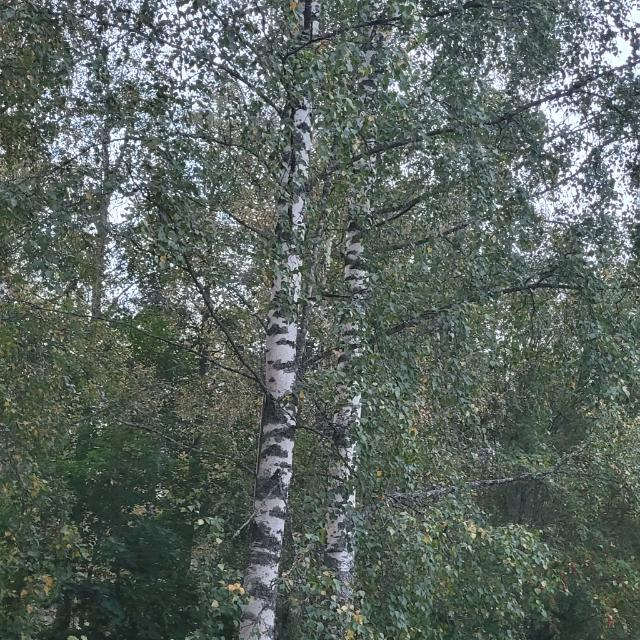birch: (205, 0, 318, 640), (318, 5, 400, 637)
